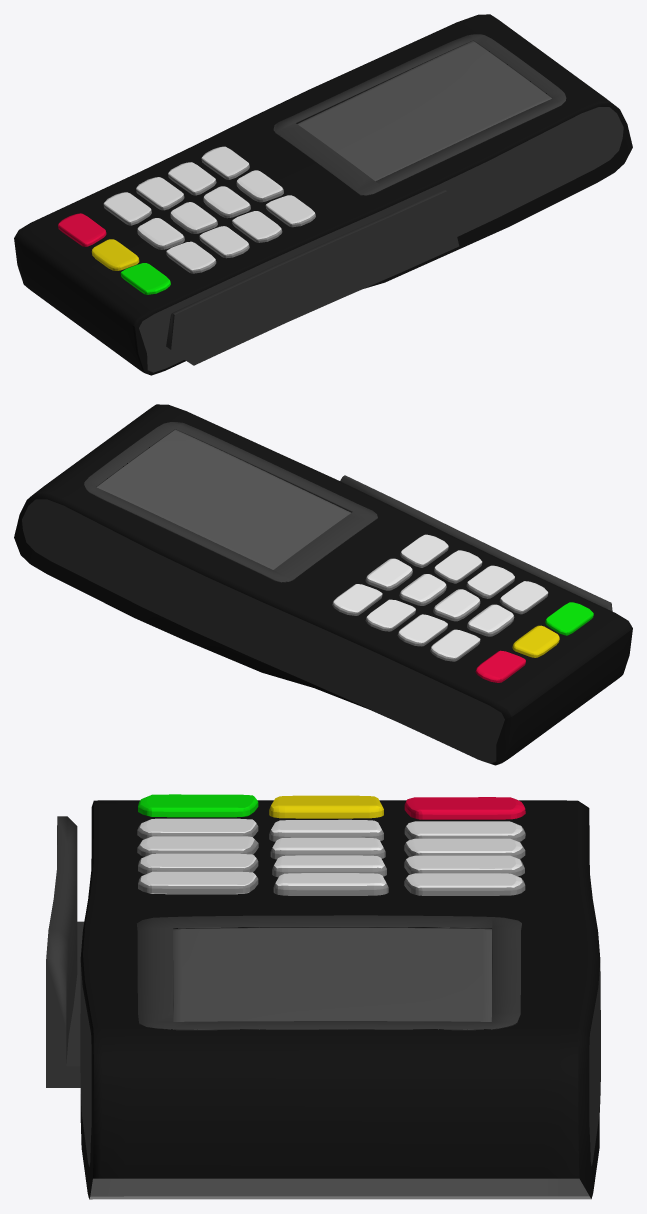
Rendered from pin pad.fbx.
3 views of the same model, one above another, from view 1: azimuth 30°, elevation 25°; view 2: azimuth 150°, elevation 25°; view 3: azimuth 270°, elevation 25° (orthographic). The views are drawn at different scales.
Visible parts, largest first — view 1: polySurface3, polySurface4, _Display, _Tasten, _Display Rahmen; view 2: polySurface3, _Display, _Tasten, _Display Rahmen, polySurface4; view 3: polySurface3, _Tasten, _Display, _Display Rahmen, polySurface4.
Boxes of the visible parts, x1,y1,x2,y2 form: polySurface3: (14,14,632,375); polySurface4: (166,189,459,365); _Display: (297,41,551,181); _Tasten: (58,146,315,294); _Display Rahmen: (273,34,566,195); polySurface3: (14,404,632,765); _Display: (97,429,351,569); _Tasten: (332,534,593,682); _Display Rahmen: (84,422,377,582); polySurface4: (340,475,612,611); polySurface3: (80,800,600,1199); _Tasten: (137,794,525,895); _Display: (173,928,491,1021); _Display Rahmen: (137,915,521,1030); polySurface4: (46,816,84,1087).
Size of the model in its own units: 21.63 by 6.76 by 10.42.
